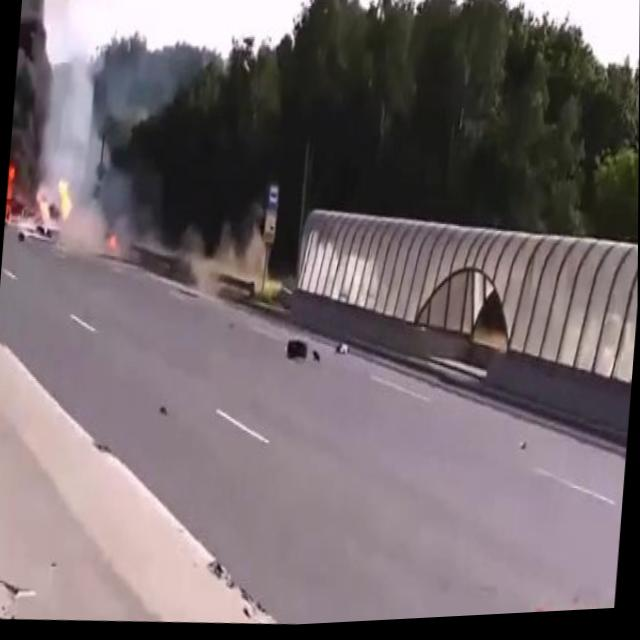fire: (52, 167, 78, 228), (5, 158, 20, 223), (107, 226, 120, 252)
